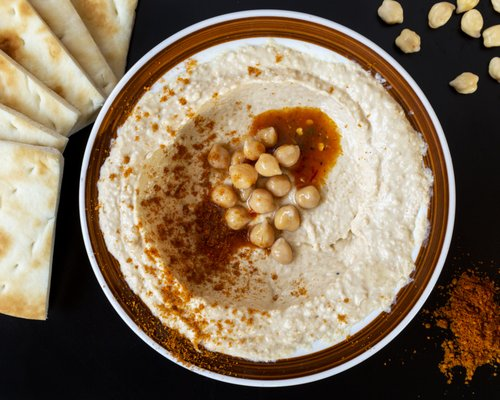sushi: (55, 2, 455, 382)
